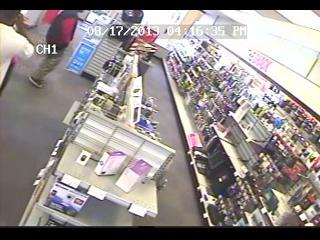Normal: (24, 10, 80, 88), (0, 11, 35, 93)
